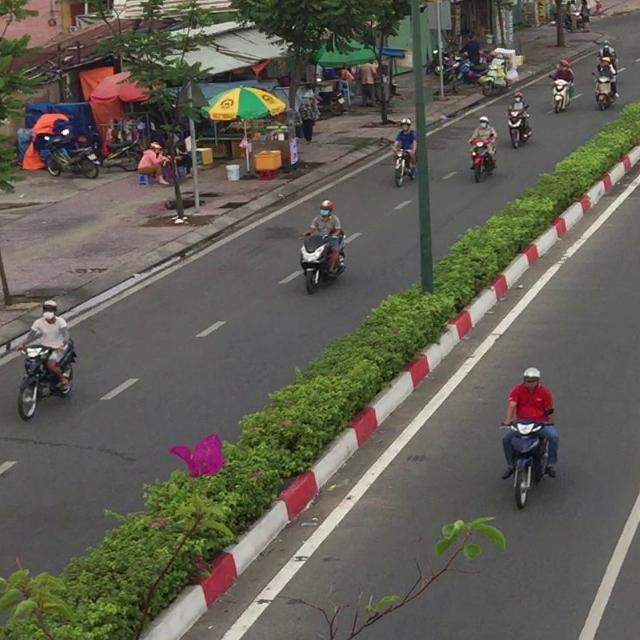Motorcycle: (499, 411, 557, 509), (16, 337, 76, 421), (297, 229, 346, 294), (468, 135, 497, 183), (591, 67, 621, 110), (506, 103, 532, 149), (392, 145, 416, 187), (548, 76, 572, 113)
